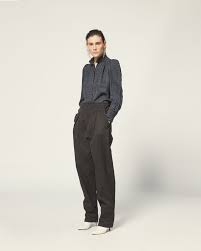S_blouse: (66, 55, 133, 129)
